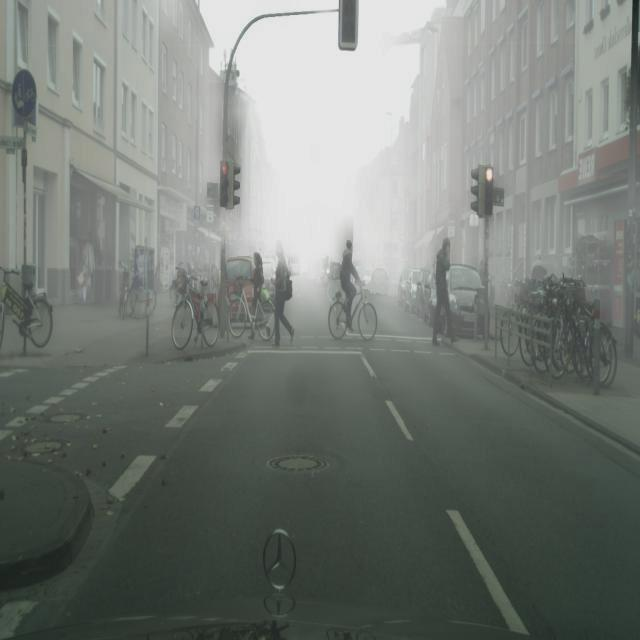bus: (448, 266, 490, 342), (419, 267, 435, 324), (404, 267, 422, 312), (397, 266, 413, 309), (369, 268, 389, 296), (261, 255, 276, 284), (288, 253, 300, 276), (359, 267, 374, 285)
car: (328, 242, 377, 341), (0, 267, 53, 357), (549, 280, 594, 383), (171, 272, 219, 351), (229, 279, 274, 341), (118, 261, 156, 319)
person: (431, 239, 455, 346), (271, 239, 294, 348), (252, 252, 264, 318)
